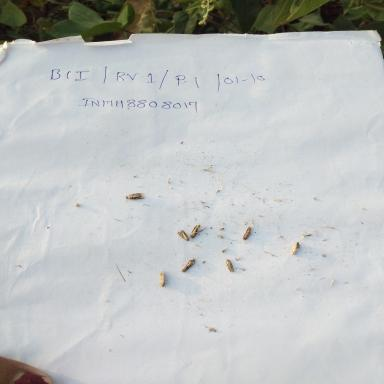pbw: (180, 256, 198, 274), (188, 223, 207, 240), (242, 222, 258, 242), (122, 190, 146, 202), (156, 270, 170, 289), (290, 240, 304, 256), (176, 228, 191, 242), (224, 258, 236, 274)
